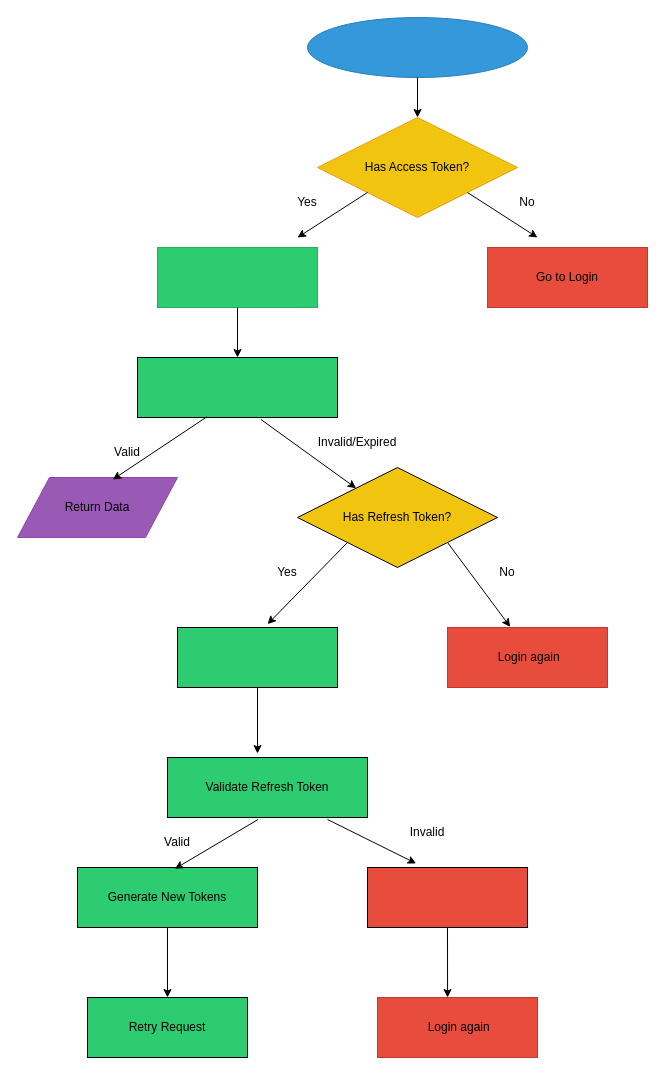
Image size: 665x1075. Some labels were removed from this diagram. Here are the shapes that lost their labels. From the top down, the box of each, then its label:
(306, 16, 528, 78): Start: Client Requests Resource
(156, 246, 318, 308): Send Request
(136, 356, 338, 418): Server Validate Token
(176, 626, 338, 688): /refresh-token
(366, 866, 528, 928): Clear Cookies
